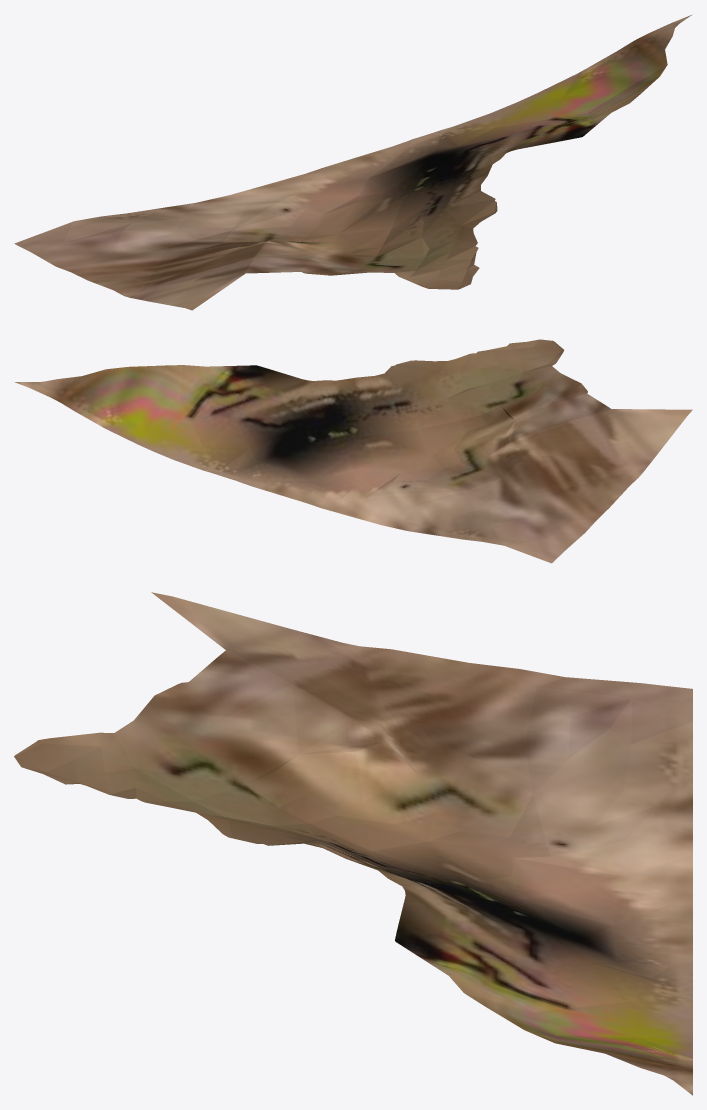
The picture shows the model from 3 angles, top to bottom: view 1: azimuth 30°, elevation 25°; view 2: azimuth 150°, elevation 25°; view 3: azimuth 270°, elevation 25°; orthographic projection. The views are drawn at different scales.
Size of the model in its own units: 0.8173 by 0.0778 by 0.4657.
Materials: 1 (1 with a texture image).
